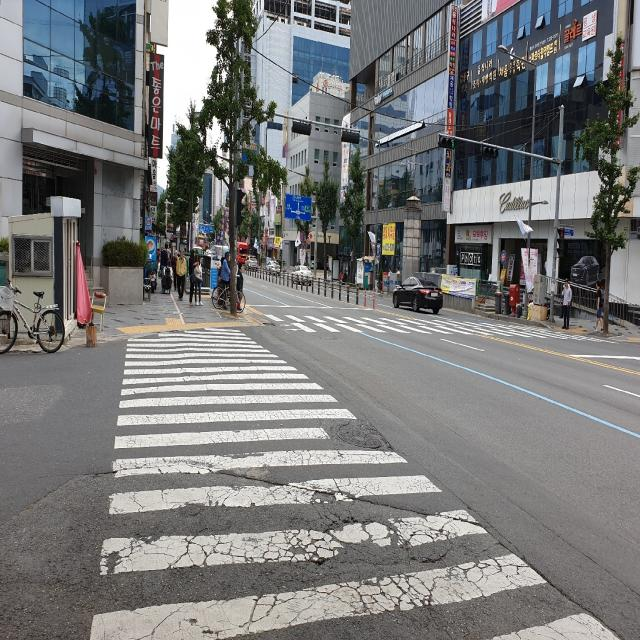횡단보도: (86, 323, 621, 640), (262, 302, 614, 346)
